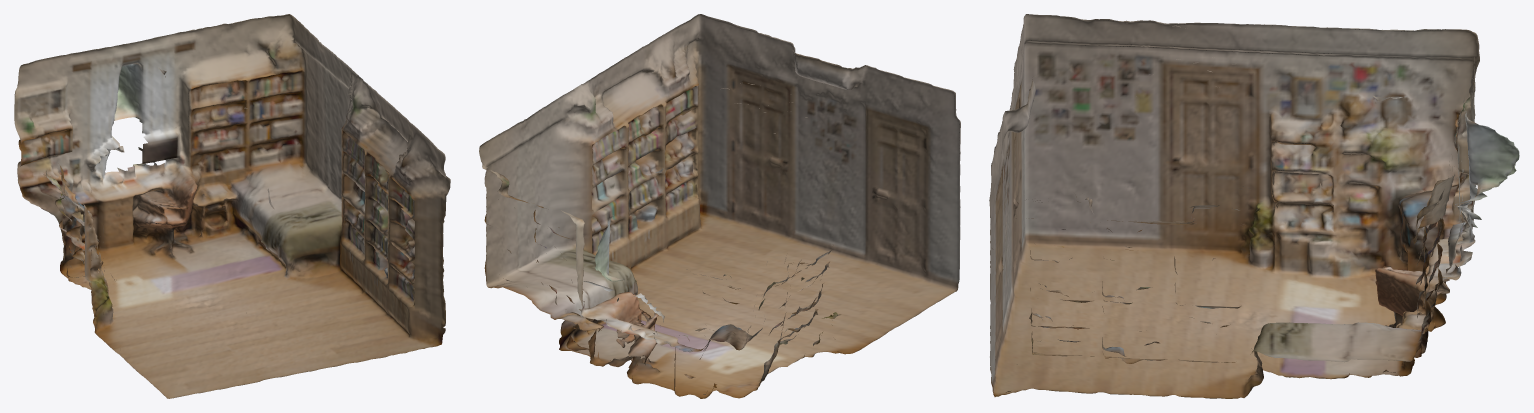
Rendered from scene_collider.glb.
The picture shows the model from 3 angles, left to right: view 1: azimuth 30°, elevation 25°; view 2: azimuth 150°, elevation 25°; view 3: azimuth 270°, elevation 25°; orthographic projection. The views are drawn at different scales.
Parts seen in each view (by area): view 1: world; view 2: world; view 3: world.
Part boxes in pixels (x1,y1,x2,y2): world: (14,14,450,398); world: (479,14,960,398); world: (989,14,1519,398).
Bounding box in the file's own units: 4.49 × 2.86 × 5.66.
